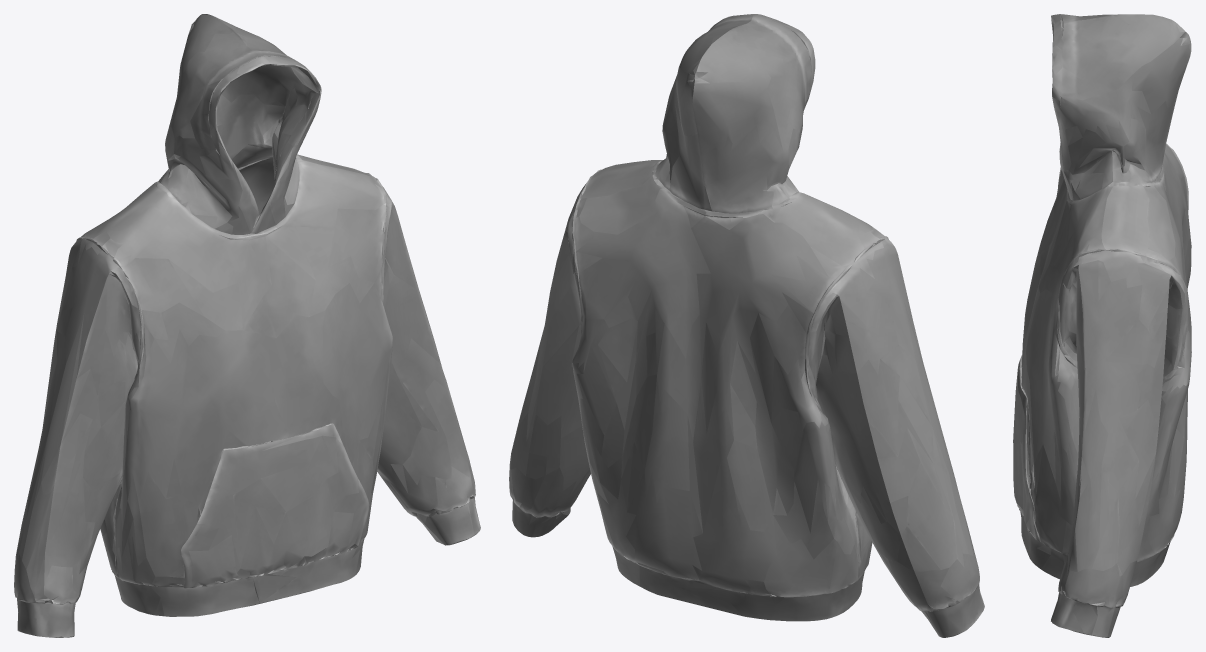
File: hoodie.glb
The picture shows the model from 3 angles, left to right: view 1: azimuth 30°, elevation 25°; view 2: azimuth 150°, elevation 25°; view 3: azimuth 270°, elevation 25°; orthographic projection. The views are drawn at different scales.
Size of the model in its own units: 1.63 by 1.9 by 0.5823.
1 material, 1 textured.
